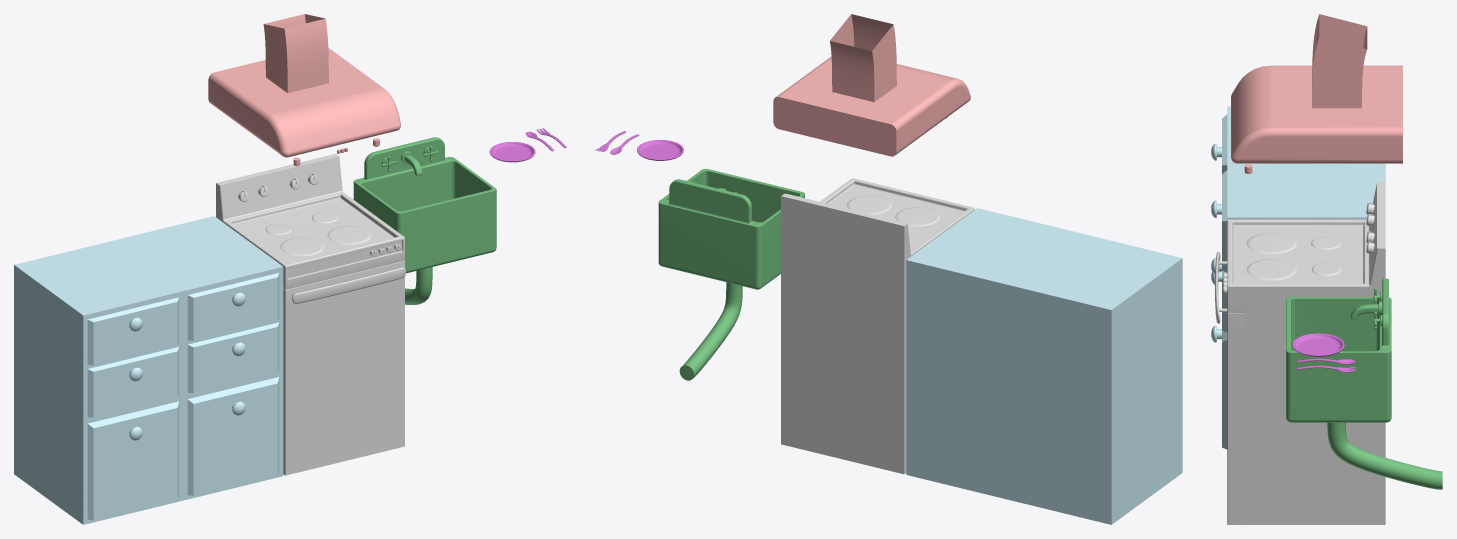
File: Kitchen.fbx
3 renders of one model, left to right at view 1: azimuth 30°, elevation 25°; view 2: azimuth 150°, elevation 25°; view 3: azimuth 270°, elevation 25°, orthographic. The views are drawn at different scales.
Visible parts, largest first — view 1: Counter_Main, Stove_Base, Rangehood_Main, Sink_Base, Drawer_2, Drawer_1, Drawer_4, Drawer_3, Drawer_6, Drawer_5, Stove, Oven_Handle (+2 smaller); view 2: Counter_Main, Stove_Base, Rangehood_Main, Sink_Base, Sink_Pipe, Stove, Plate; view 3: Stove_Base, Rangehood_Main, Sink_Base, Counter_Main, Stove, Sink_Pipe, Plate, Drawer_2, Drawer_6, Drawer_5, Oven_Handle, Faucet.
Part boxes in pixels (box(x1,y1,x2,y2)): Counter_Main: box(14, 216, 283, 524); Stove_Base: box(216, 154, 404, 475); Rangehood_Main: box(208, 14, 400, 157); Sink_Base: box(353, 137, 496, 273); Drawer_2: box(187, 377, 279, 495); Drawer_1: box(87, 401, 179, 520); Drawer_4: box(187, 322, 279, 393); Drawer_3: box(87, 347, 179, 417); Drawer_6: box(187, 273, 279, 340); Drawer_5: box(87, 297, 179, 365); Stove: box(238, 174, 401, 256); Oven_Handle: box(291, 267, 405, 303); Counter_Main: box(906, 208, 1182, 524); Stove_Base: box(781, 178, 974, 474); Rangehood_Main: box(773, 14, 970, 156); Sink_Base: box(658, 168, 804, 289); Sink_Pipe: box(679, 282, 742, 380); Stove: box(847, 195, 940, 226); Plate: box(637, 140, 683, 160); Stove_Base: box(1227, 181, 1385, 524); Rangehood_Main: box(1231, 14, 1402, 163); Sink_Base: box(1286, 278, 1391, 422); Counter_Main: box(1227, 106, 1385, 219); Stove: box(1223, 202, 1374, 293); Sink_Pipe: box(1327, 422, 1442, 489); Plate: box(1292, 333, 1344, 356); Drawer_2: box(1222, 330, 1227, 449); Drawer_6: box(1222, 170, 1227, 272); Drawer_5: box(1222, 114, 1227, 173); Oven_Handle: box(1215, 252, 1220, 323); Faucet: box(1350, 304, 1378, 319).
Size of the model in its own units: 2.58 by 1.95 by 0.8775.
